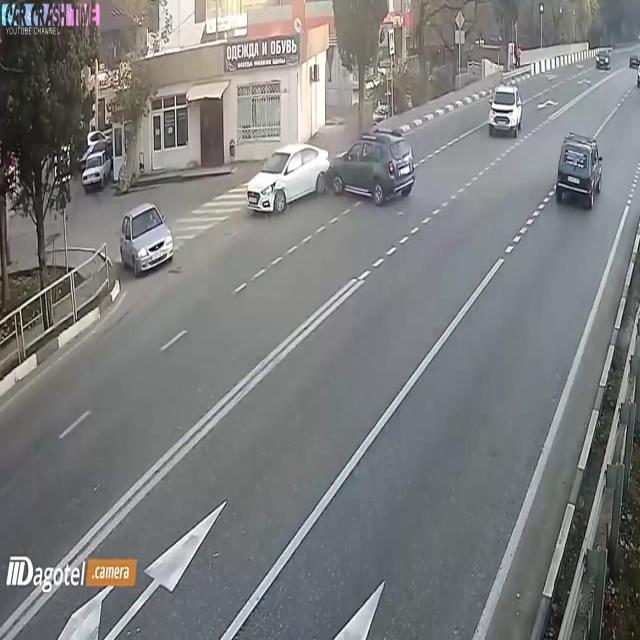accident: (234, 118, 420, 223)
